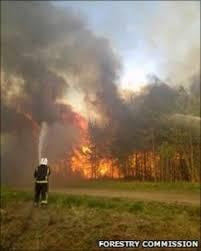fire: (61, 104, 127, 178)
